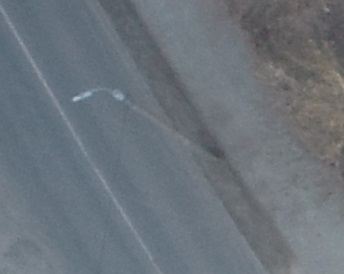opora: (70, 85, 222, 163)
